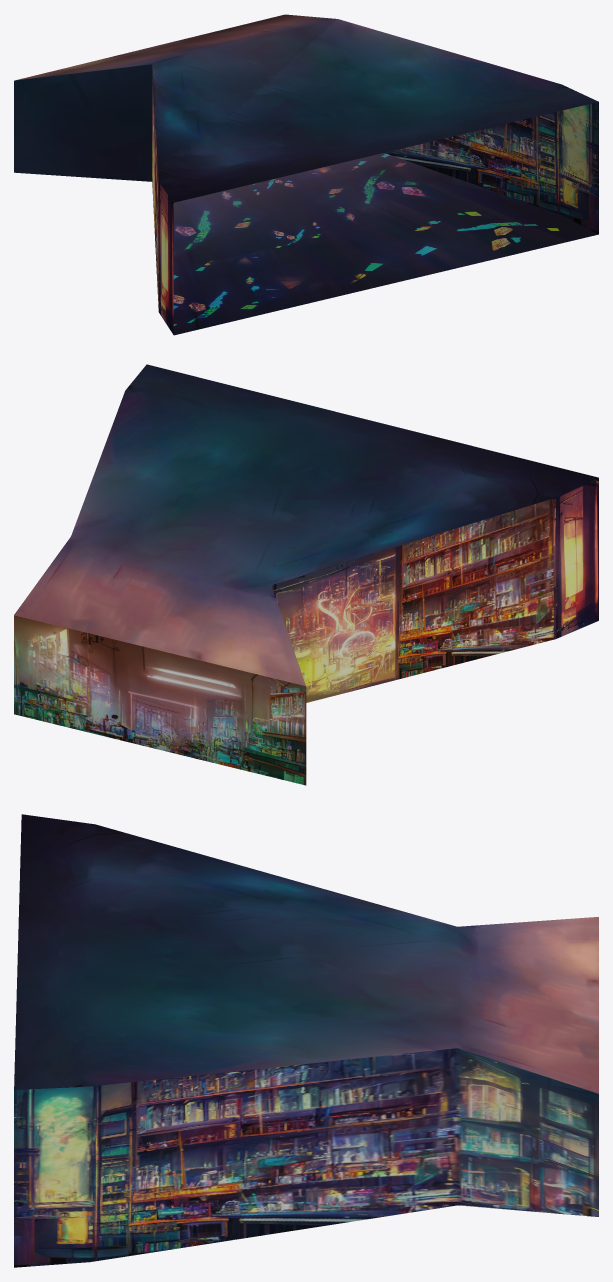
Rendered from stage1.fbx.
3 renders of one model, top to bottom at view 1: azimuth 30°, elevation 25°; view 2: azimuth 150°, elevation 25°; view 3: azimuth 270°, elevation 25°, orthographic. The views are drawn at different scales.
Parts seen in each view (by area): view 1: stage1; view 2: stage1; view 3: stage1.
Boxes of the visible parts, bbox=[...] form: stage1: bbox=[14, 14, 598, 335]; stage1: bbox=[14, 364, 598, 785]; stage1: bbox=[14, 814, 598, 1267].
Size of the model in its own units: 156 by 50.04 by 140.
Materials: 1 (1 with a texture image).
